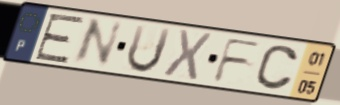C: (252, 43, 301, 92)
E: (31, 12, 88, 66)
F: (210, 36, 265, 84)
N: (68, 16, 126, 68)
U: (124, 23, 174, 75)
X: (159, 27, 215, 82)
